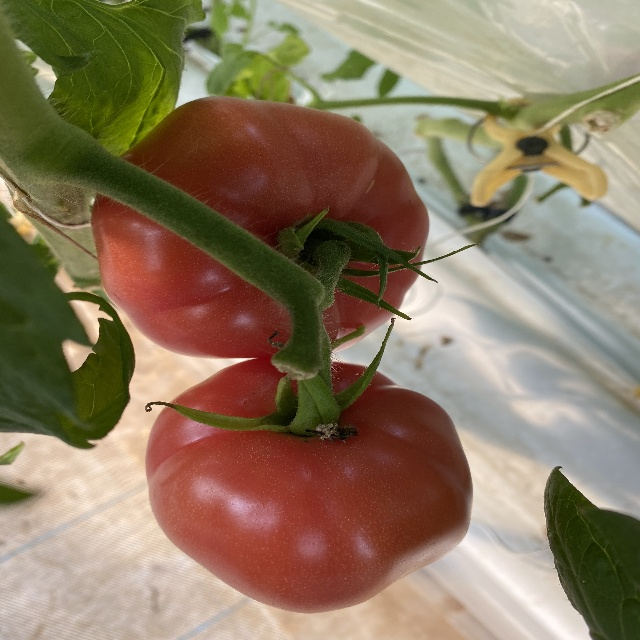b_fully_ripened: (92, 96, 430, 359), (144, 356, 474, 614)
